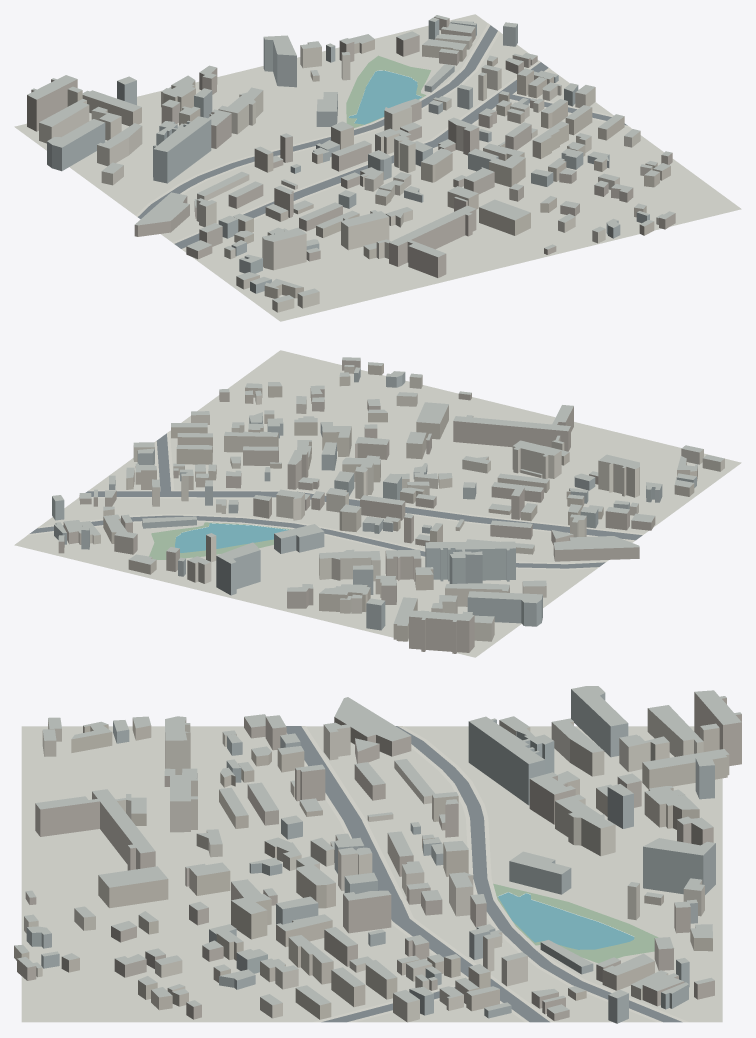
3 renders of one model, top to bottom at view 1: azimuth 30°, elevation 25°; view 2: azimuth 150°, elevation 25°; view 3: azimuth 270°, elevation 25°, orthographic. The views are drawn at different scales.
Visible parts, largest first — view 1: city; view 2: city; view 3: city.
Boxes of the visible parts, box(x1,y1,x2,y2) form: city: box(14, 14, 741, 321); city: box(14, 350, 741, 657); city: box(14, 686, 741, 1023).
Bounding box in the file's own units: 526 × 33.28 × 519.
